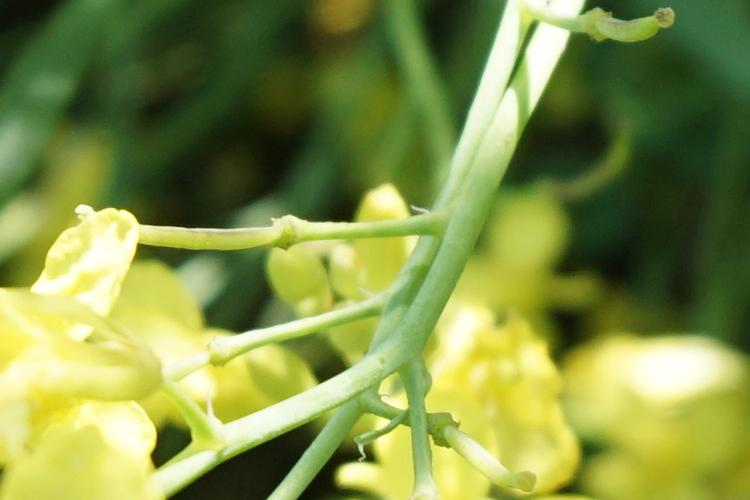yellow: (408, 296, 586, 489), (23, 300, 184, 436), (28, 205, 141, 329)
